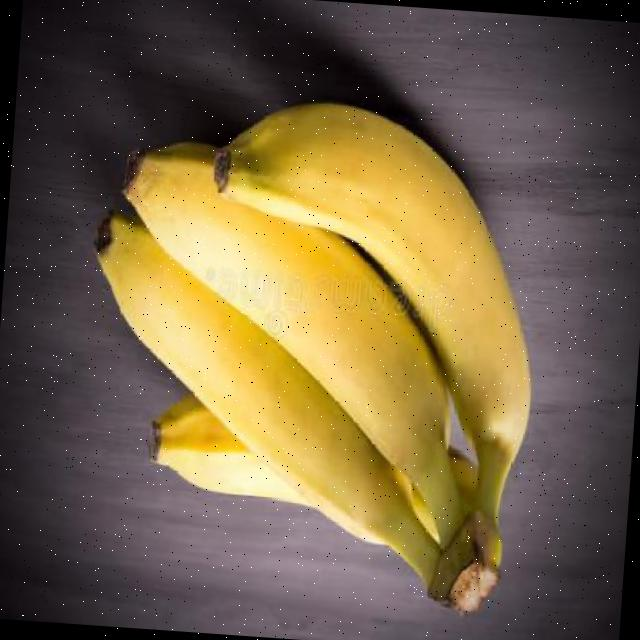banana: (212, 96, 527, 605), (101, 136, 476, 558), (148, 390, 311, 503)
